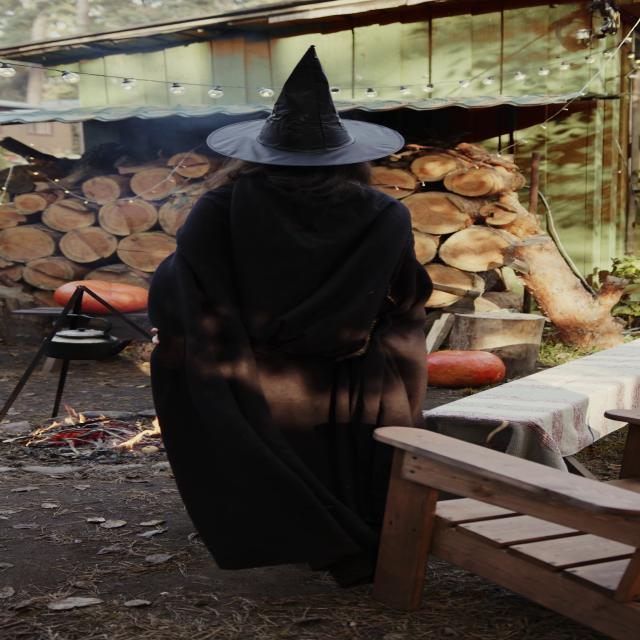Fire: (40, 404, 164, 446)
